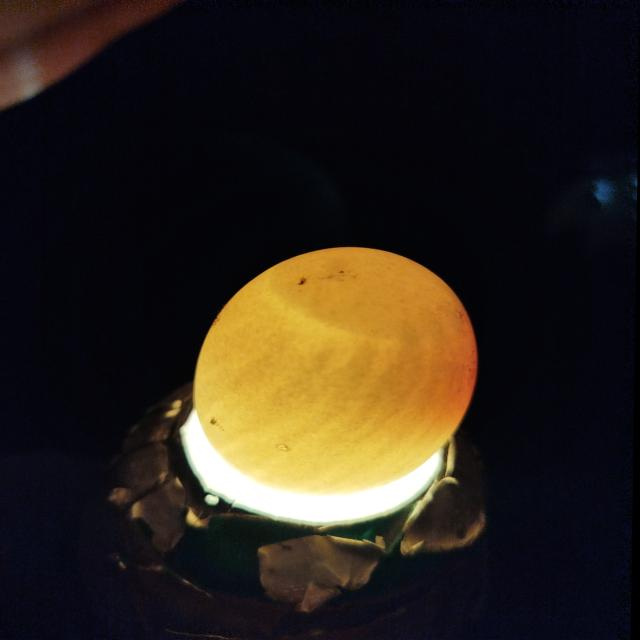Camara de Ar: (268, 247, 472, 342)
